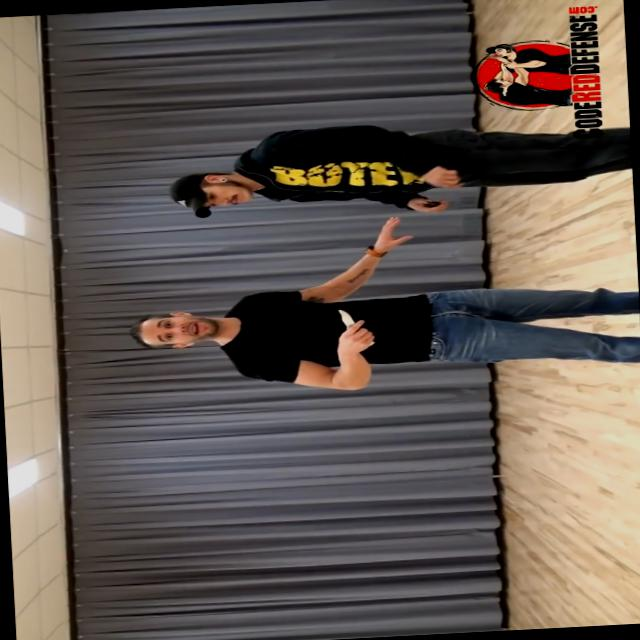knife: (333, 306, 375, 348)
